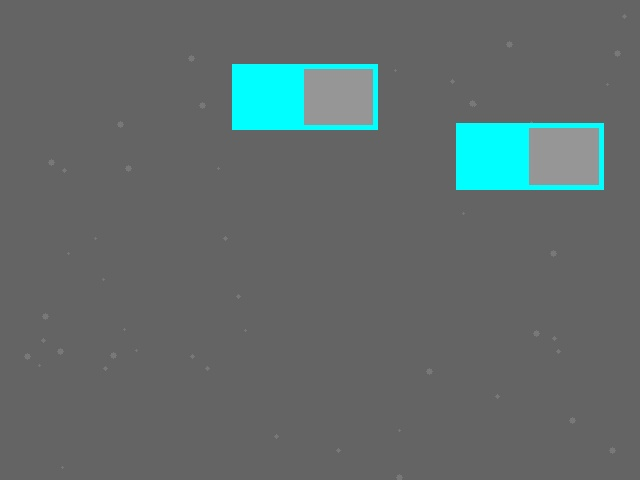truck: (456, 123, 603, 189), (232, 64, 377, 129)
